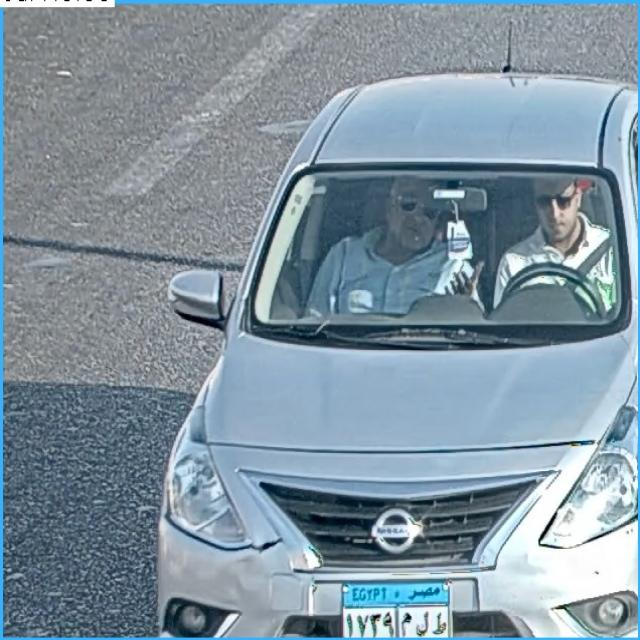windshield: (250, 166, 625, 334)
